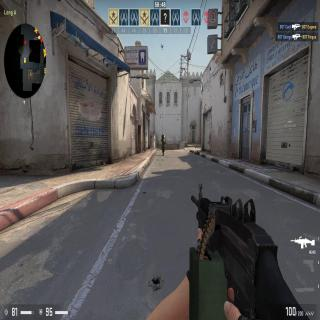CT-Body: (160, 132, 167, 157)
CT-Head: (161, 133, 165, 138)
